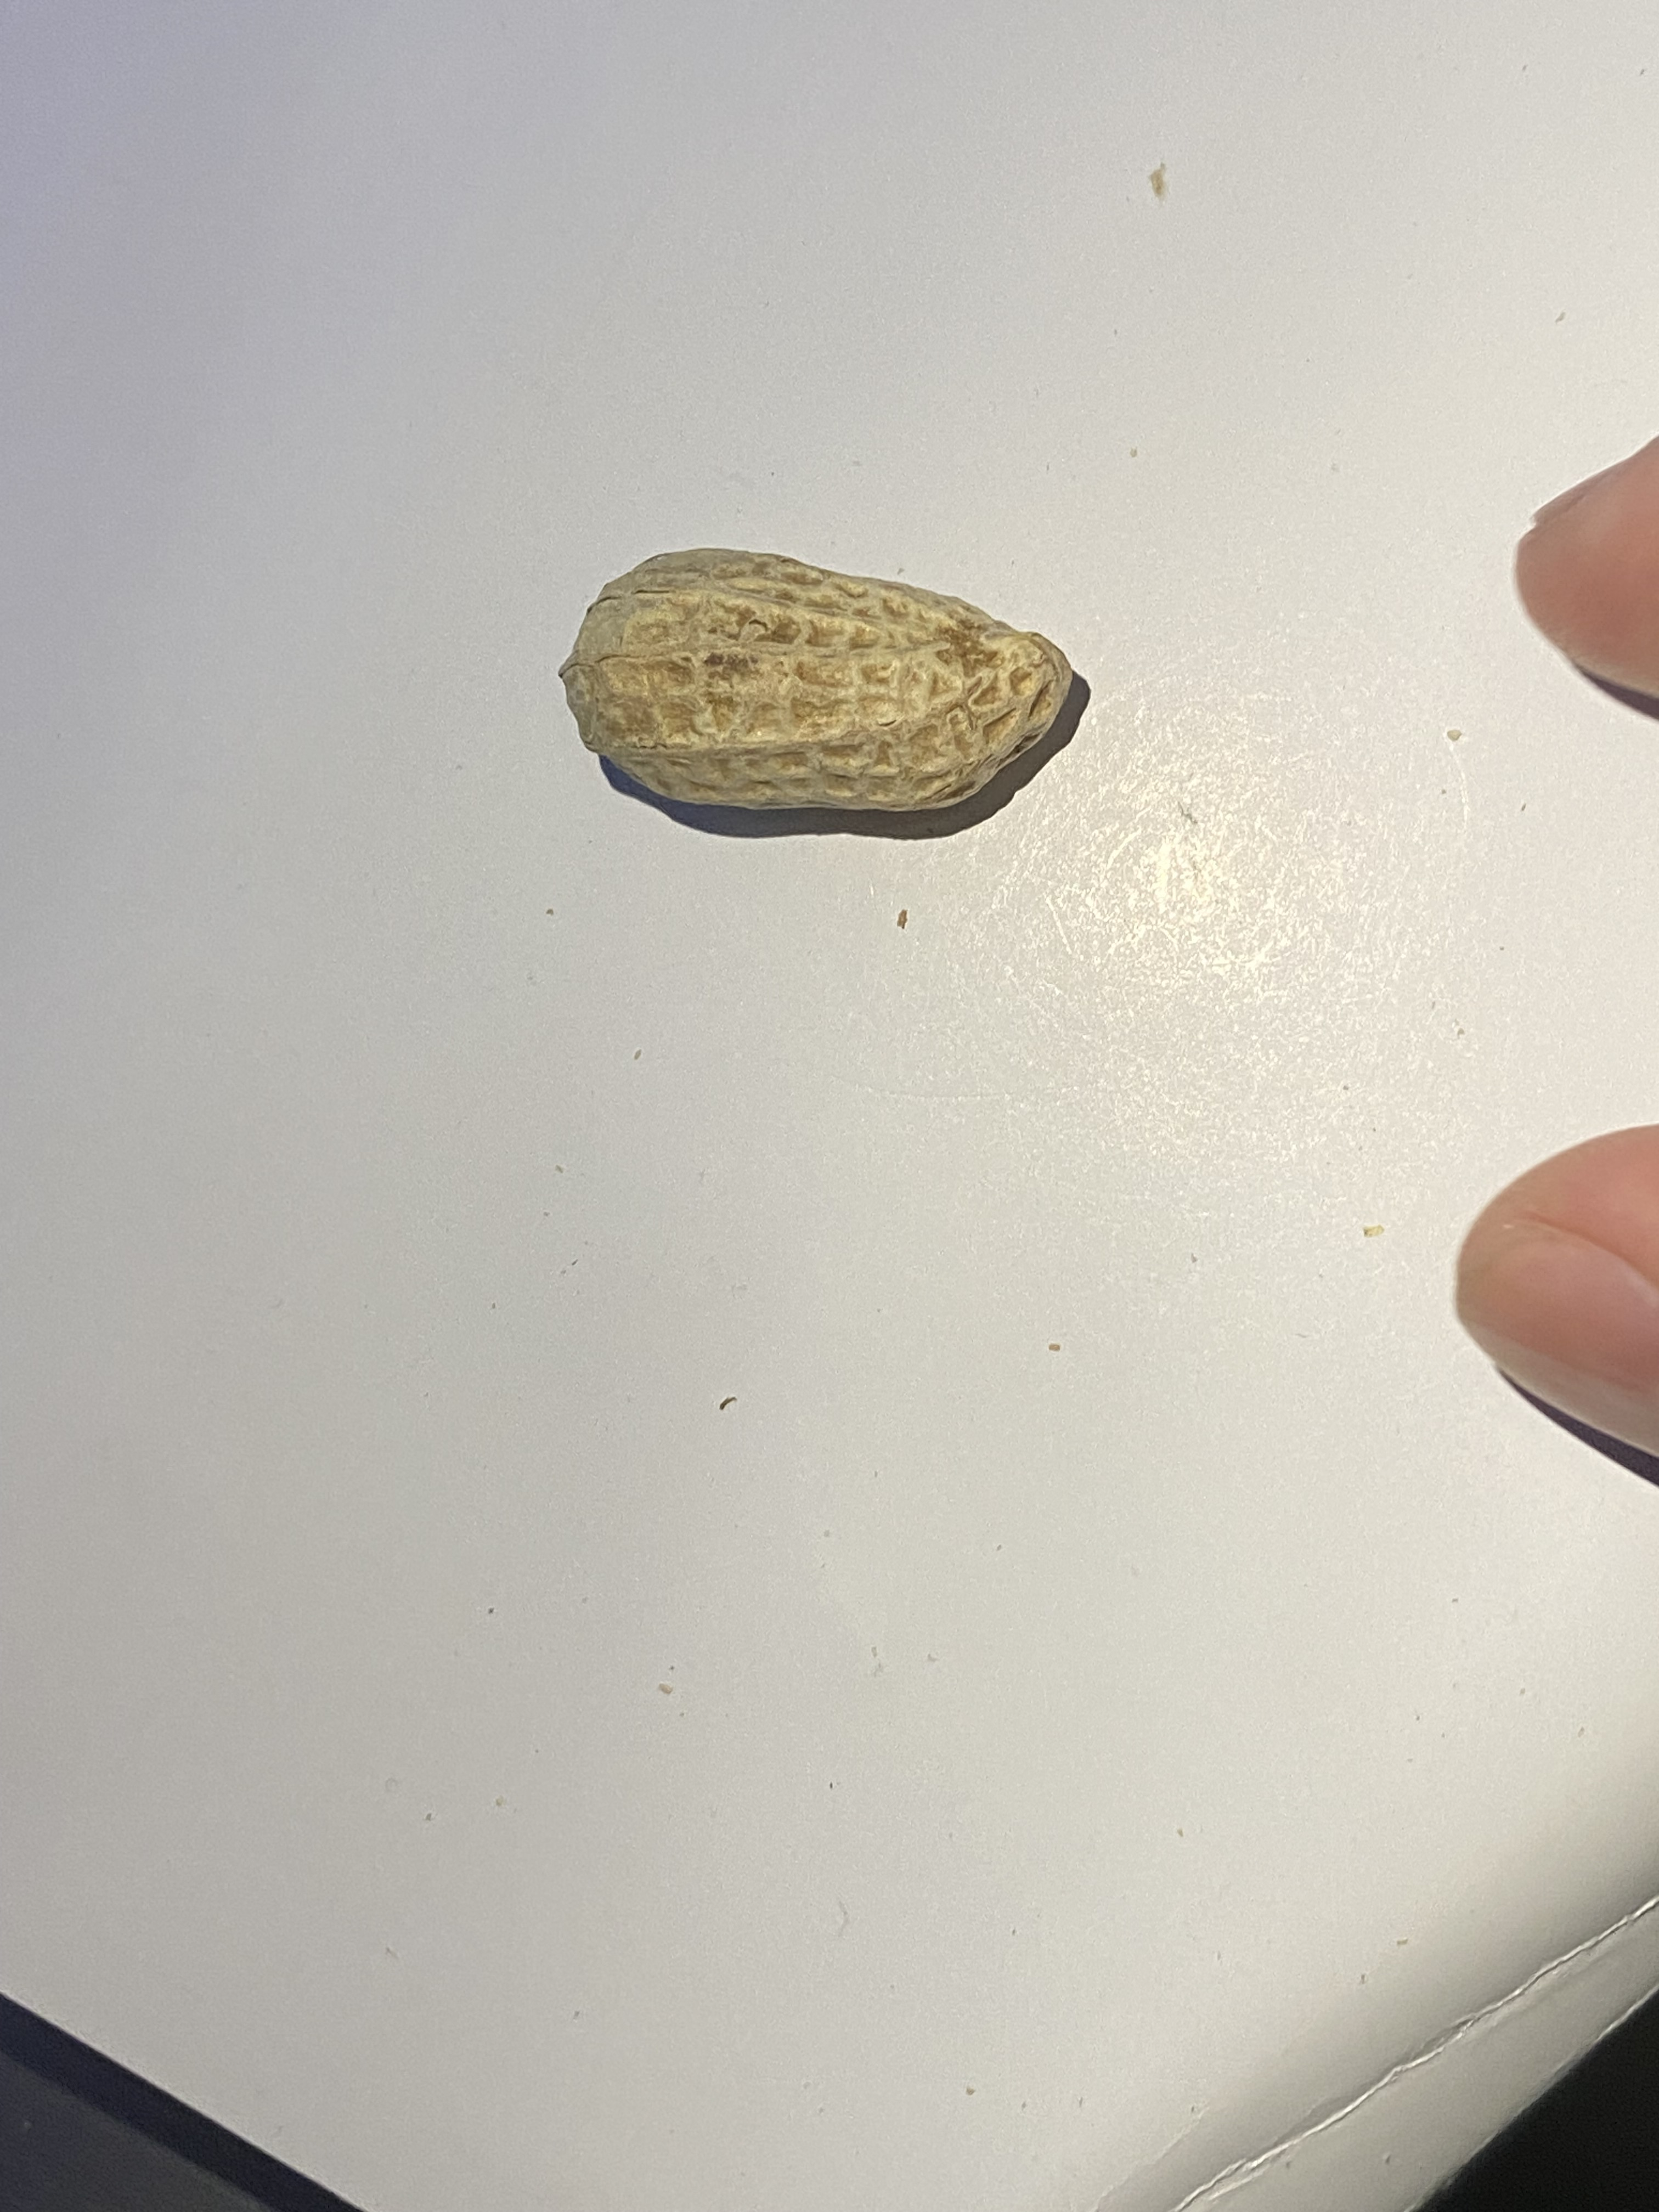kacang1: (549, 523, 1087, 838)
